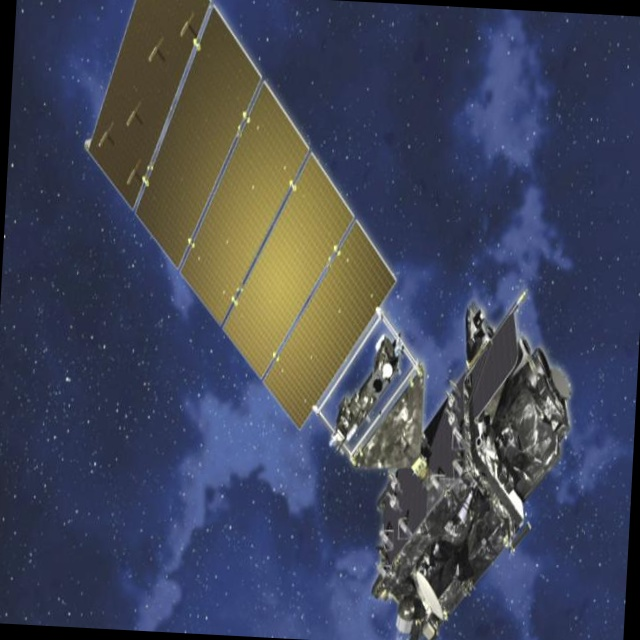medium_debris: (46, 0, 590, 640)
